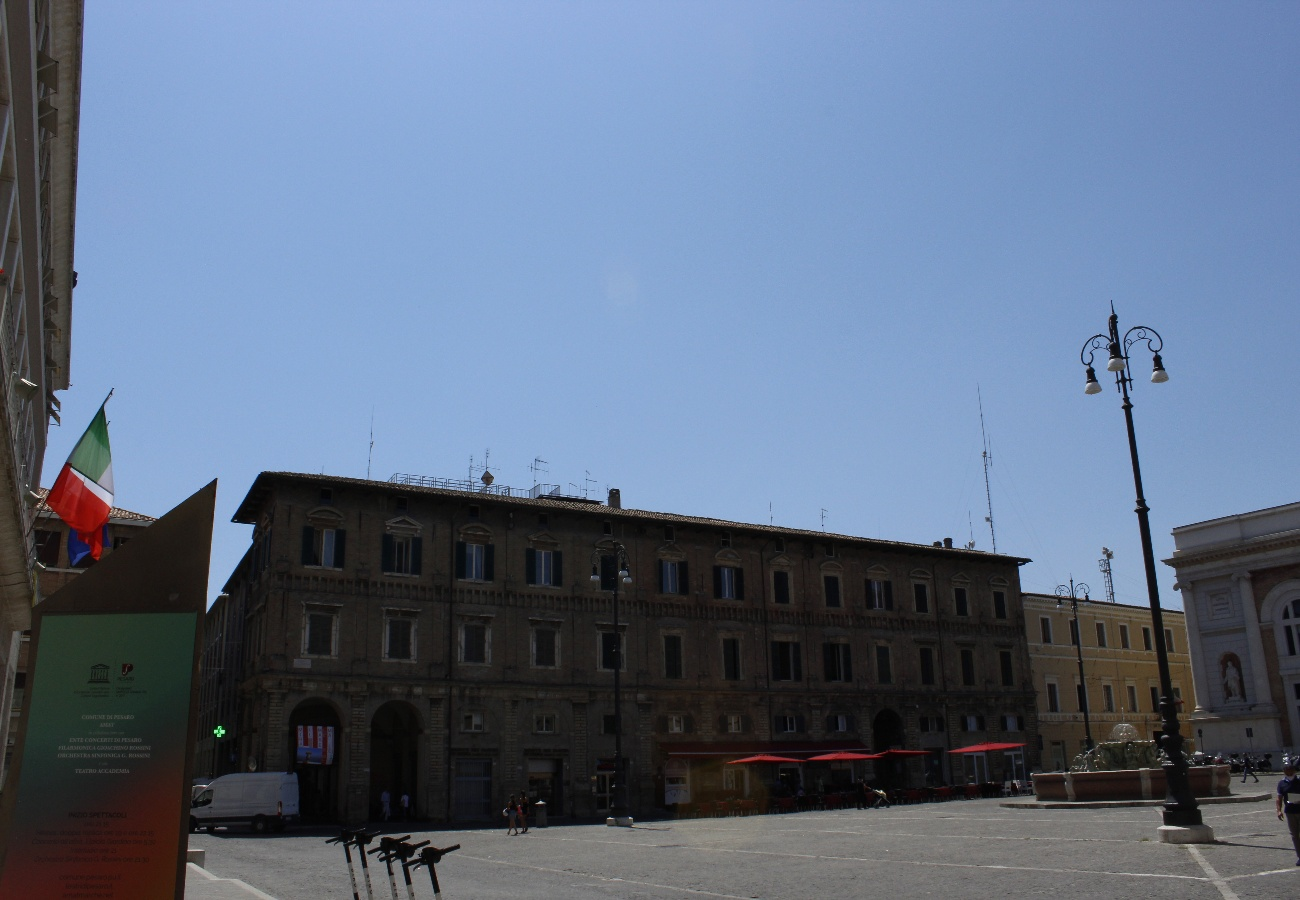Palazzo Baviera: (257, 467, 1030, 811)
